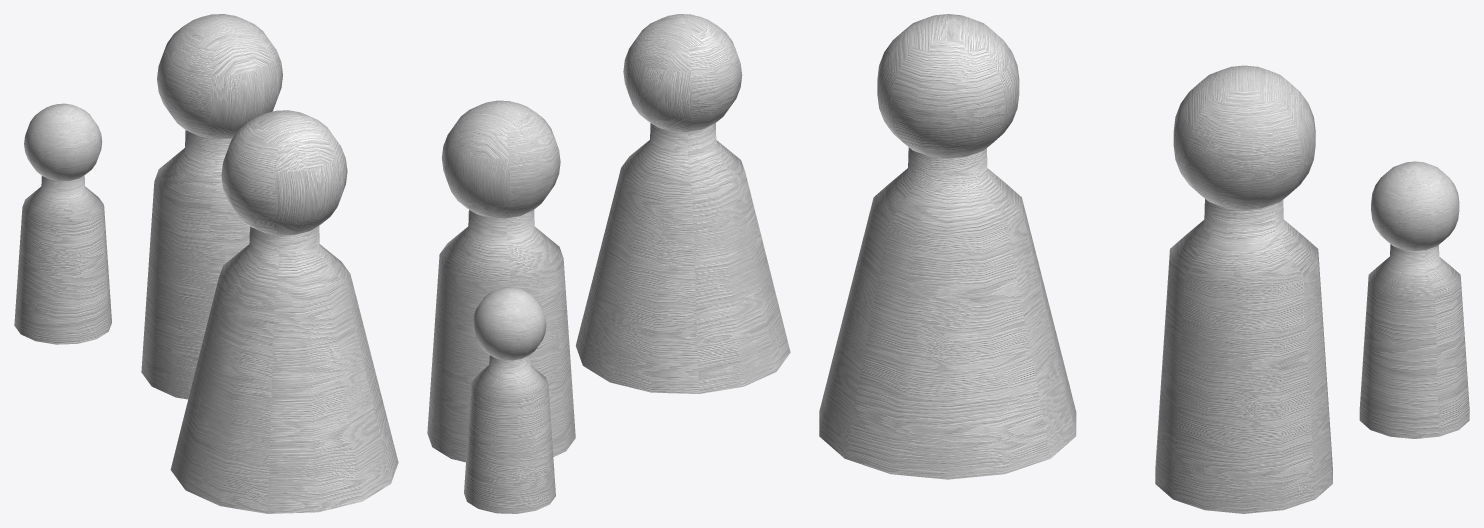
File: dolls.fbx
The picture shows the model from 3 angles, left to right: view 1: azimuth 30°, elevation 25°; view 2: azimuth 150°, elevation 25°; view 3: azimuth 270°, elevation 25°; orthographic projection. The views are drawn at different scales.
Parts seen in each view (by area): view 1: Doll1, Doll, Doll2; view 2: Doll1, Doll, Doll2; view 3: Doll1, Doll, Doll2.
Boxes of the visible parts, bbox=[...] form: Doll1: bbox=[170, 110, 398, 513]; Doll: bbox=[141, 14, 282, 399]; Doll2: bbox=[14, 103, 111, 344]; Doll1: bbox=[575, 14, 790, 393]; Doll: bbox=[427, 100, 575, 462]; Doll2: bbox=[464, 287, 555, 513]; Doll1: bbox=[819, 14, 1076, 479]; Doll: bbox=[1155, 65, 1332, 513]; Doll2: bbox=[1359, 161, 1469, 438].
Bounding box in the file's own units: 222 × 333 × 469.
Materials: 1 (1 with a texture image).
